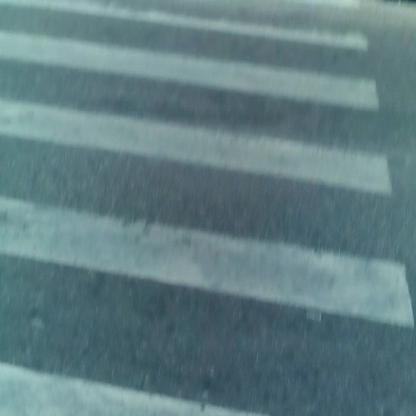crosswalk: (5, 4, 412, 405)
